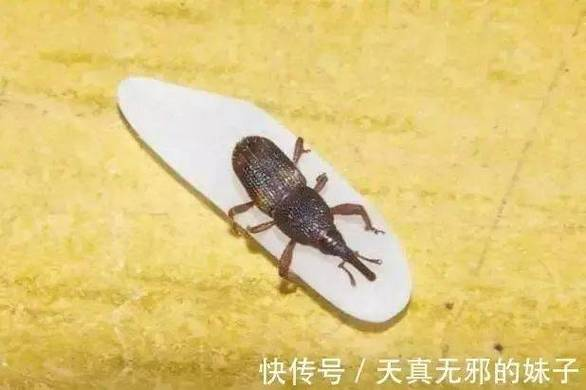Curculionidae: (228, 135, 385, 287)
